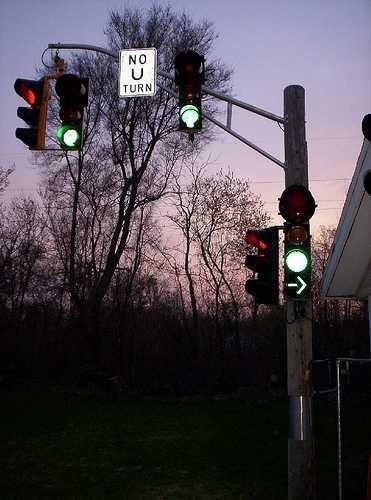1: (280, 272, 310, 298)
2: (280, 188, 316, 298), (171, 48, 210, 138), (56, 74, 86, 156)
red traffic light: (170, 100, 204, 134), (56, 125, 84, 152), (284, 248, 310, 272)
